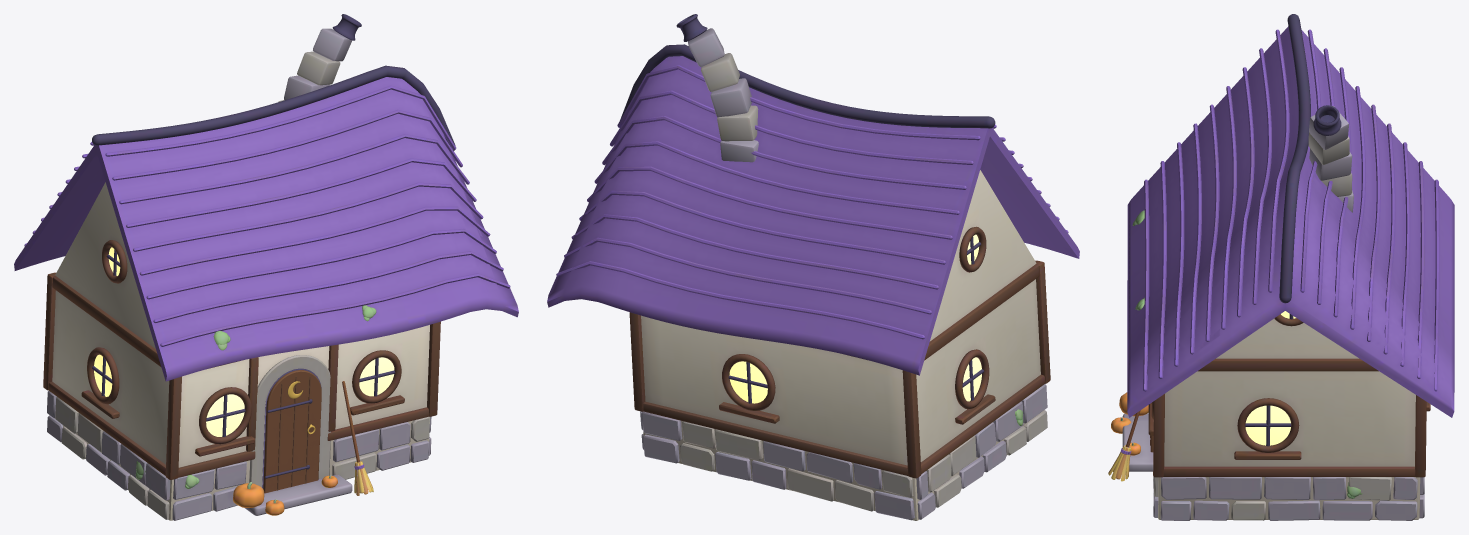
Rendered from witch-cottage.glb.
3 views of the same model, side by side, from view 1: azimuth 30°, elevation 25°; view 2: azimuth 150°, elevation 25°; view 3: azimuth 270°, elevation 25° (orthographic). The views are drawn at different scales.
Parts seen in each view (by area): view 1: witch-cottage_body, witch-cottage_door, witch-cottage_window_glow; view 2: witch-cottage_body, witch-cottage_window_glow; view 3: witch-cottage_body, witch-cottage_window_glow.
Part boxes in pixels (left/top/right/bottom): witch-cottage_body: left=14, top=14, right=518, bottom=520; witch-cottage_door: left=263, top=370, right=321, bottom=493; witch-cottage_window_glow: left=94, top=247, right=394, bottom=436; witch-cottage_body: left=547, top=14, right=1079, bottom=520; witch-cottage_window_glow: left=729, top=234, right=981, bottom=403; witch-cottage_body: left=1108, top=14, right=1454, bottom=520; witch-cottage_window_glow: left=1245, top=311, right=1295, bottom=445.
Size of the model in its own units: 6.15 by 6.27 by 4.77.
Materials: 3 (2 with a texture image).
